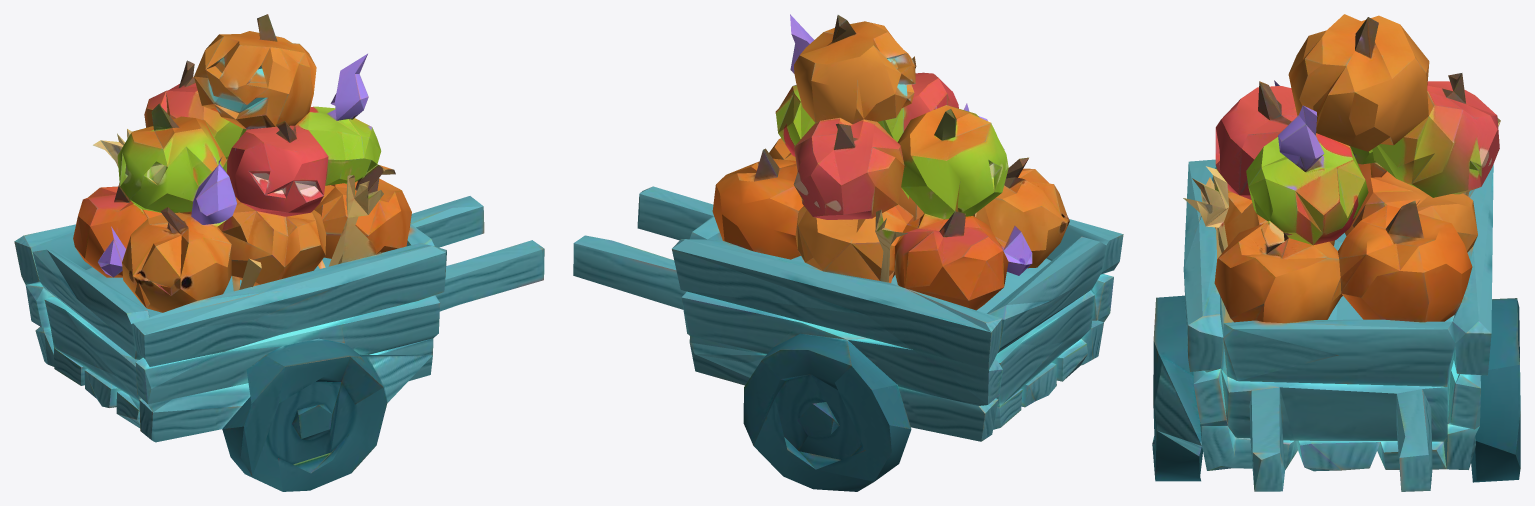
The model's file is wooden_cart.glb.
The picture shows the model from 3 angles, left to right: view 1: azimuth 30°, elevation 25°; view 2: azimuth 150°, elevation 25°; view 3: azimuth 270°, elevation 25°; orthographic projection. The views are drawn at different scales.
Bounding box in the file's own units: 1.89 × 1.68 × 1.17.
1 material, 1 textured.
